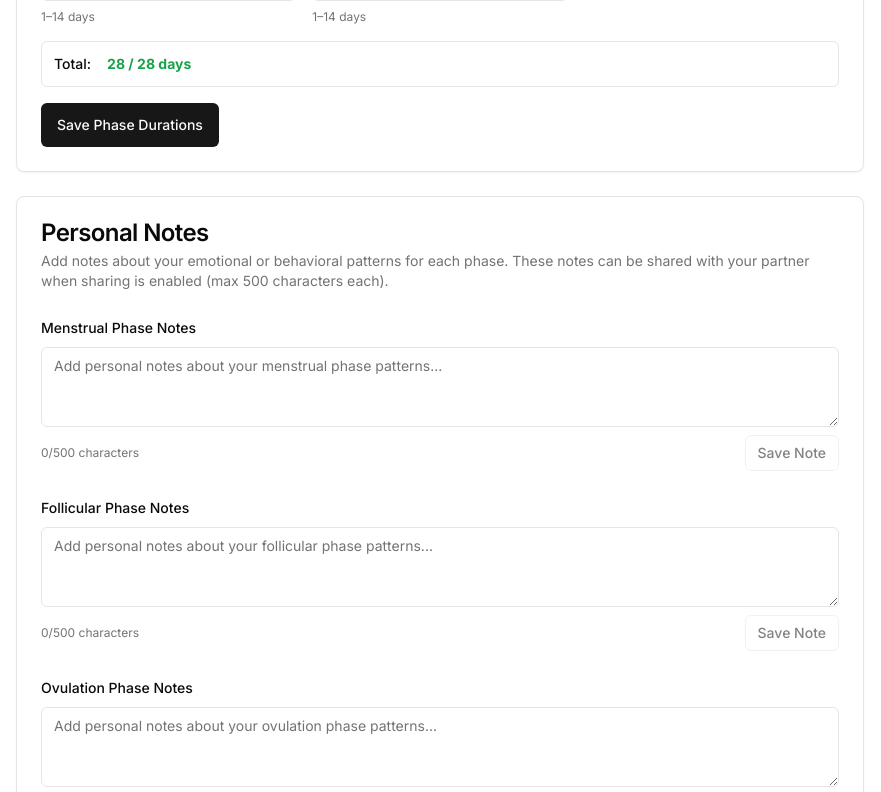
Test: CustomizePage › updates character count as user types (Requirement 9.4)
(page scrolled)
Type "Hello world" into the text box labelled "Menstrual Phase Notes". click: [440, 387]
box: [41, 347, 839, 427]
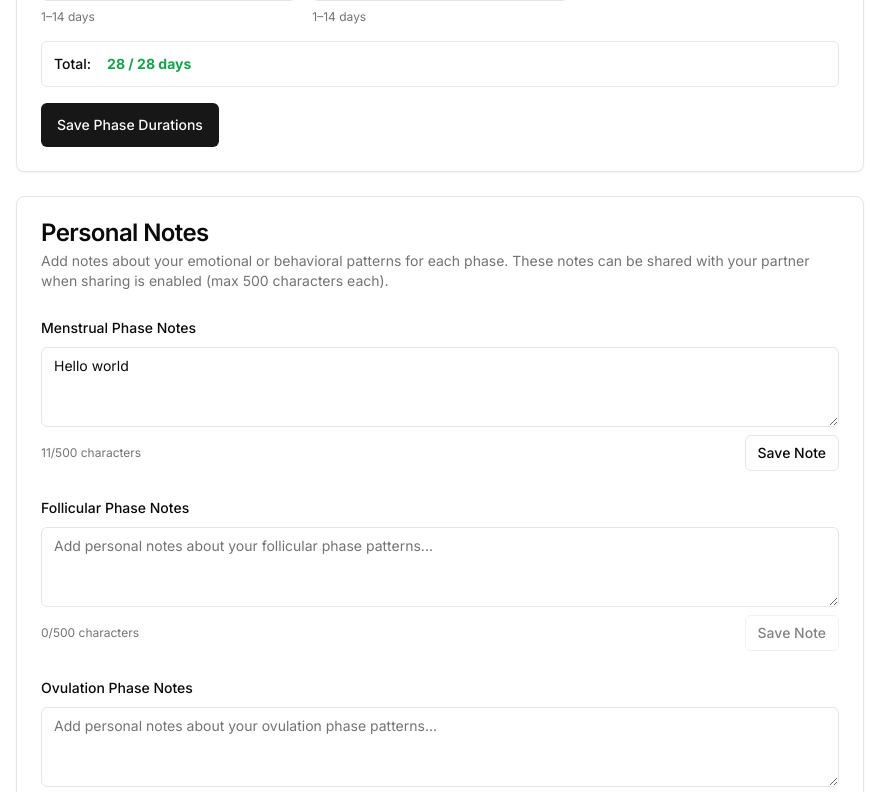
Check: the text "11/500 characters" is shown, box [41, 445, 141, 461]
